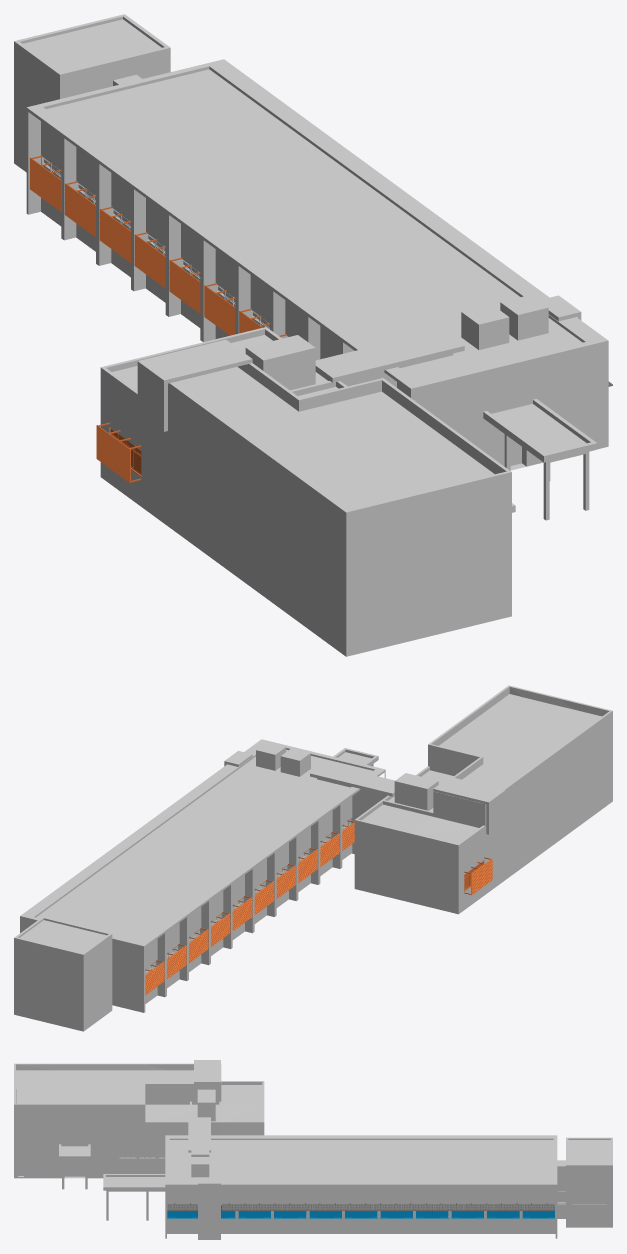
Rendered from medialab.glb.
The picture shows the model from 3 angles, top to bottom: view 1: azimuth 30°, elevation 25°; view 2: azimuth 150°, elevation 25°; view 3: azimuth 270°, elevation 25°; orthographic projection. The views are drawn at different scales.
Parts seen in each view (by area): view 1: predio03_Cube.004, Cube_Cube.011, Cube.001, windows.000_Plane.000; view 2: predio03_Cube.004, Cube_Cube.011, windows.000_Plane.000, Cube.001; view 3: predio03_Cube.004, windows.010_Plane.012, Cube.002_Cube.007.
Part boxes in pixels (bbox=[...]): predio03_Cube.004: bbox=[14, 14, 608, 656]; Cube_Cube.011: bbox=[29, 155, 286, 336]; Cube.001: bbox=[96, 422, 141, 482]; windows.000_Plane.000: bbox=[43, 157, 287, 336]; predio03_Cube.004: bbox=[14, 685, 612, 1031]; Cube_Cube.011: bbox=[145, 820, 354, 994]; windows.000_Plane.000: bbox=[145, 819, 351, 974]; Cube.001: bbox=[464, 857, 492, 894]; predio03_Cube.004: bbox=[14, 1060, 612, 1239]; windows.010_Plane.012: bbox=[167, 1205, 554, 1218]; Cube.002_Cube.007: bbox=[167, 1203, 554, 1210].
Size of the model in its own units: 16.12 by 5.35 by 38.16.
